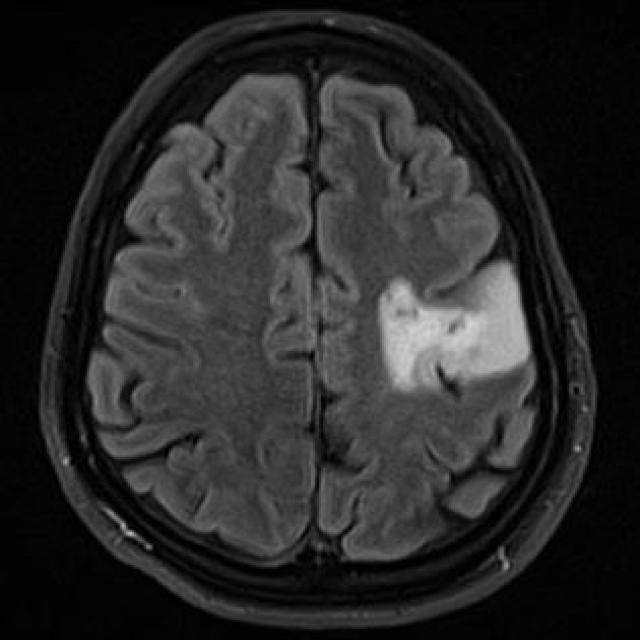Tumor-Cell: (337, 253, 559, 397)
